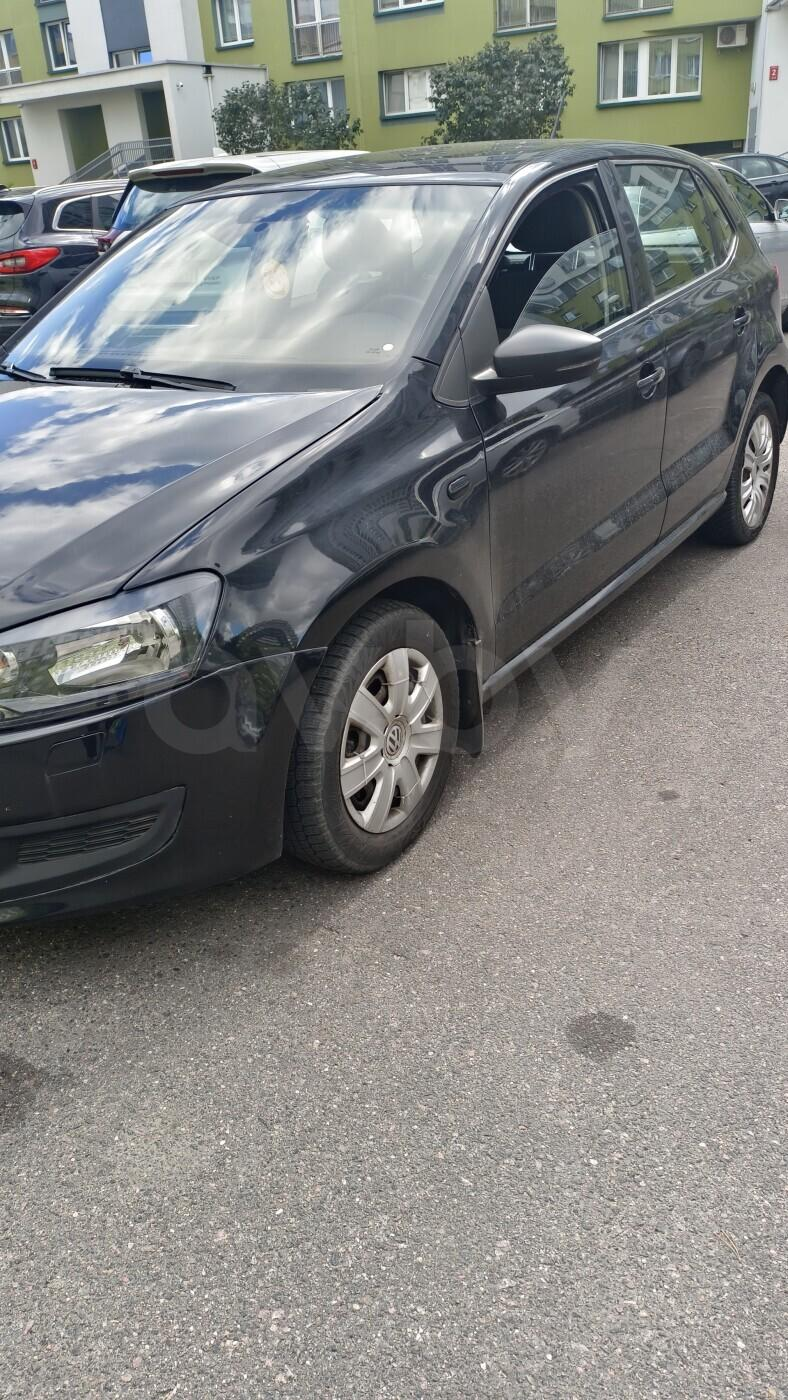Polo_2009-2015: (0, 122, 788, 964)
